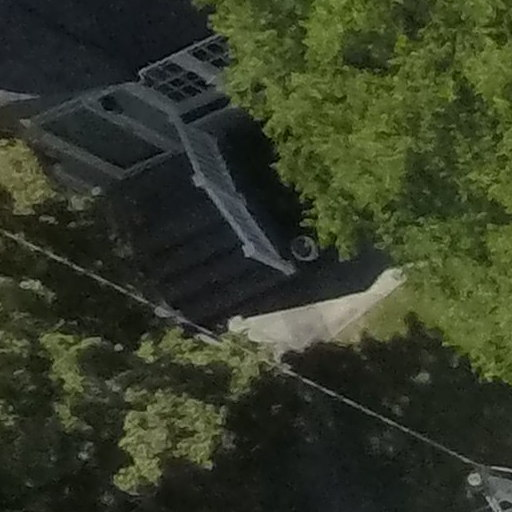container: (167, 113, 293, 284), (285, 232, 323, 264)
